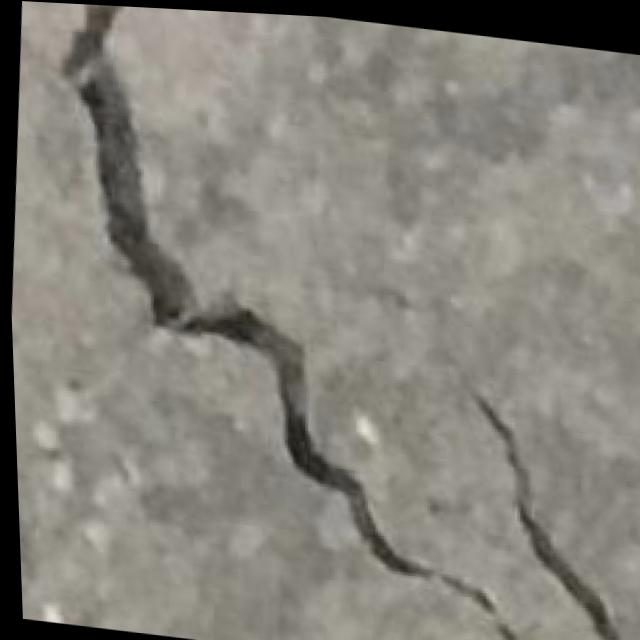Crack: (209, 299, 531, 640), (26, 1, 254, 345), (451, 382, 640, 640)
